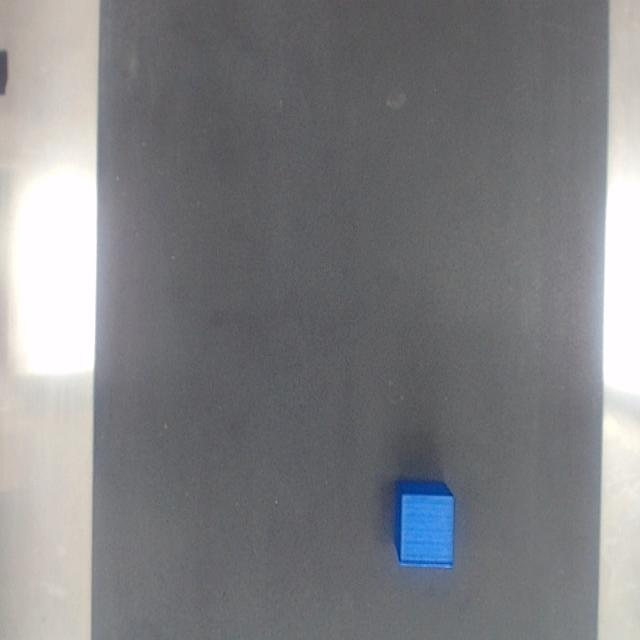Azul: (395, 480, 453, 568)
